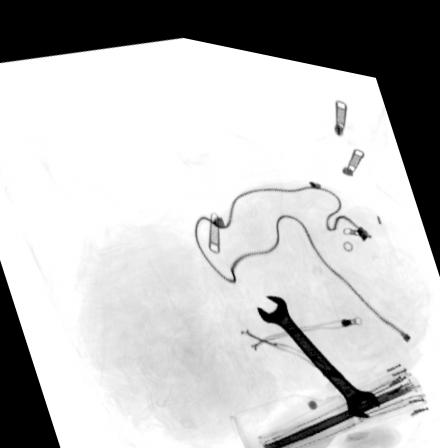Wrench: (257, 281, 383, 405)
